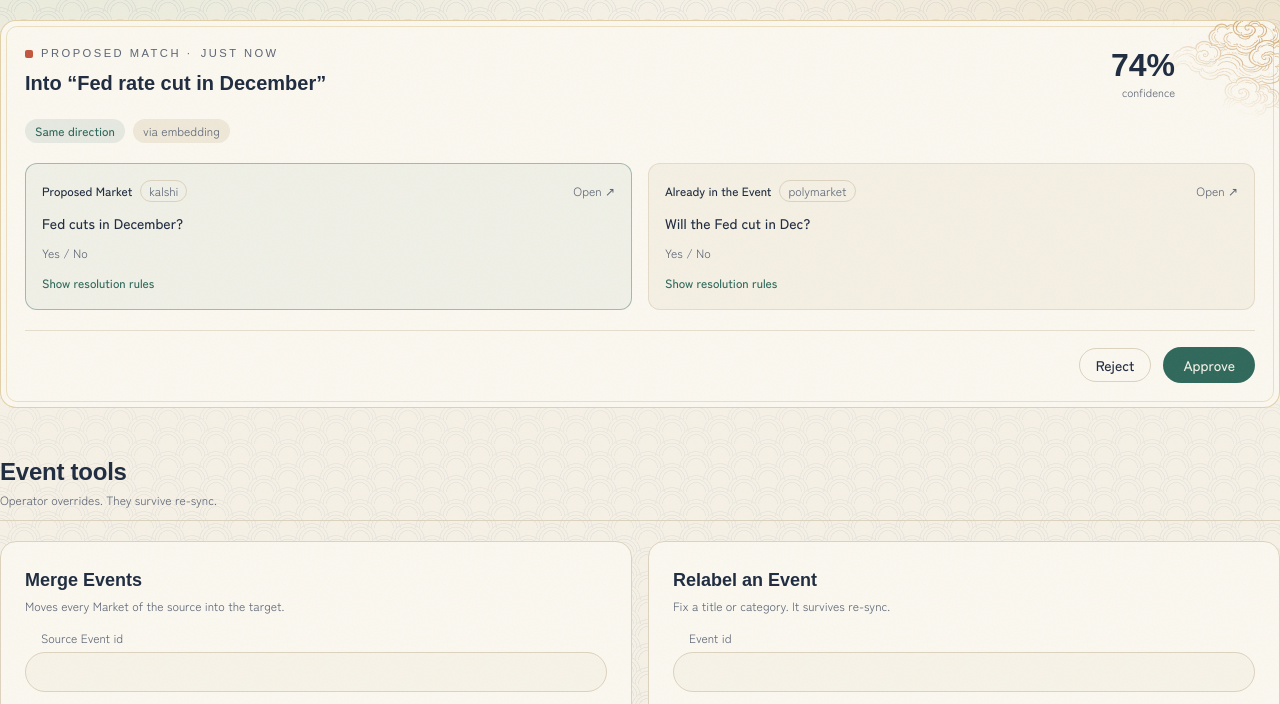
Test case: AdminConsole › rejects a match through the admin API
(page scrolled)
Click the button "Reject" at (1115, 365), box x1=1079 y1=348 x2=1152 y2=382
(page scrolled)
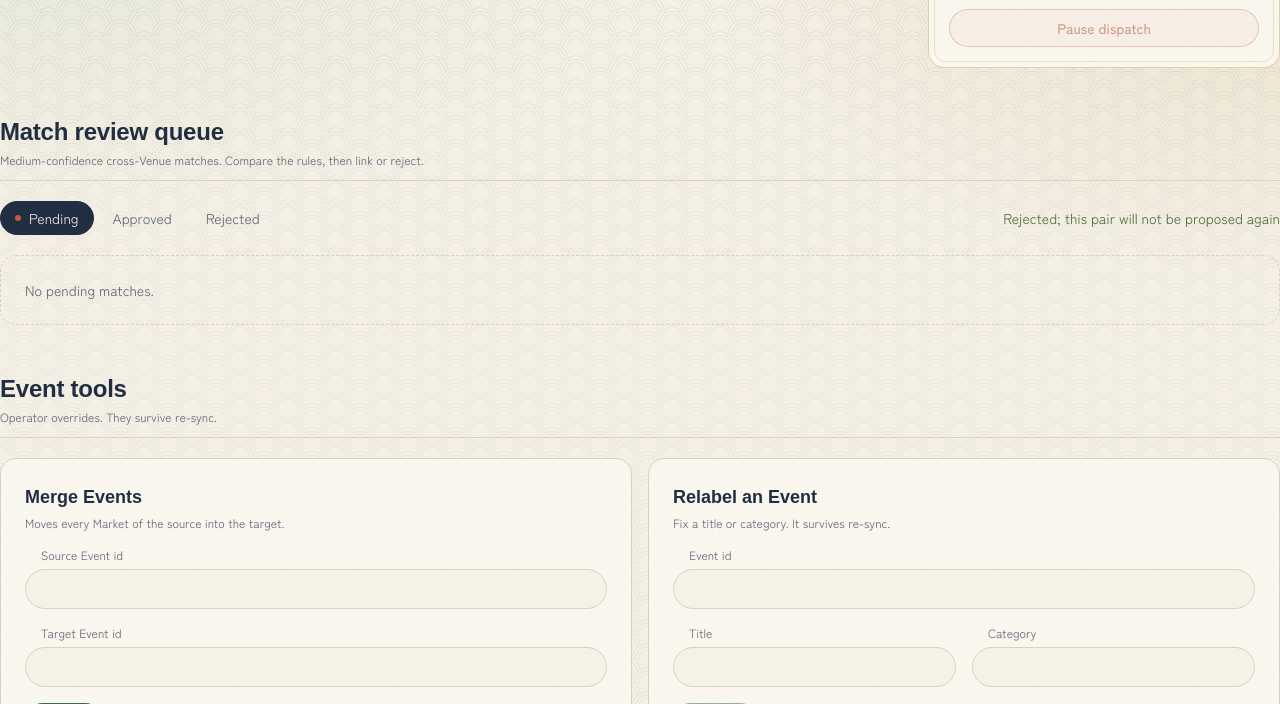
Expected: the text "Rejected; this pair will not be proposed again" is shown, x1=1003 y1=208 x2=1279 y2=228
